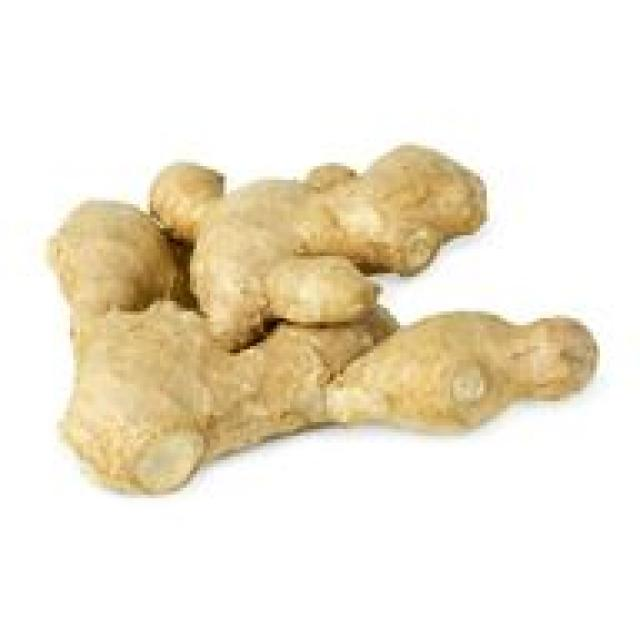ginger-root: (33, 126, 602, 500)
